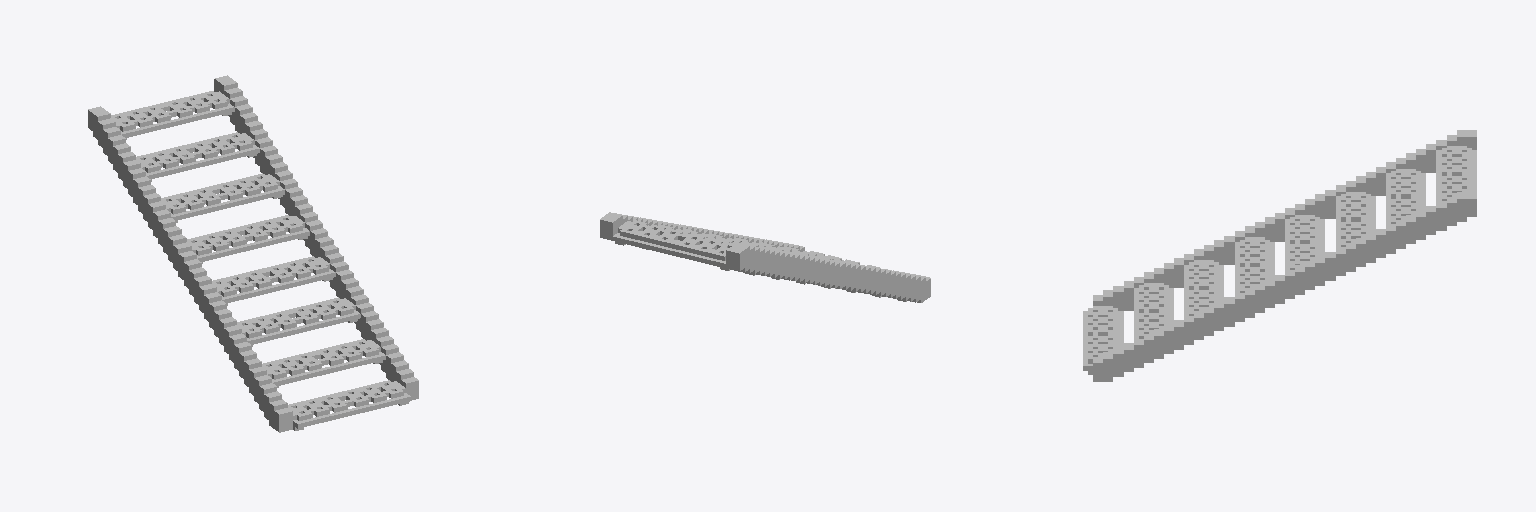
File: Architeture1-8.obj
3 renders of one model, left to right at view 1: azimuth 30°, elevation 25°; view 2: azimuth 150°, elevation 25°; view 3: azimuth 270°, elevation 25°, orthographic.
Parts seen in each view (by area): view 1: object 1; view 2: object 1; view 3: object 1.
Boxes of the visible parts, box(x1,y1,x2,y2) form: object 1: box(88, 75, 418, 432); object 1: box(600, 212, 930, 302); object 1: box(1083, 130, 1476, 381).
Size of the model in its own units: 3.2 by 4 by 7.8.